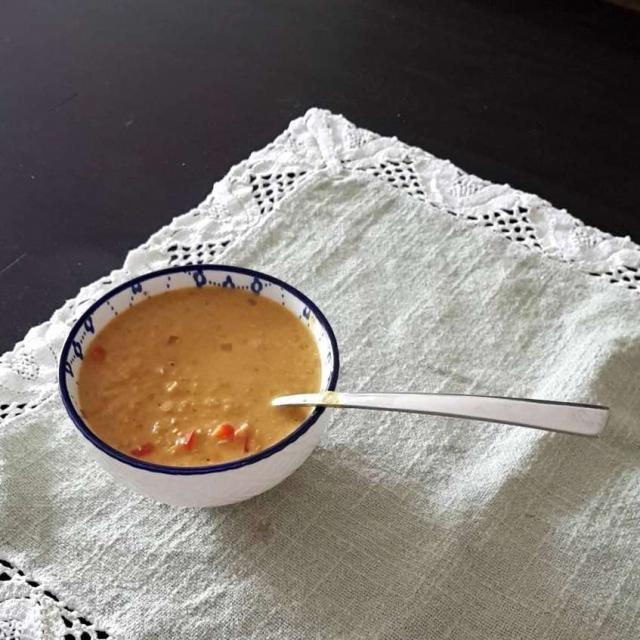soup: (81, 289, 315, 460)
